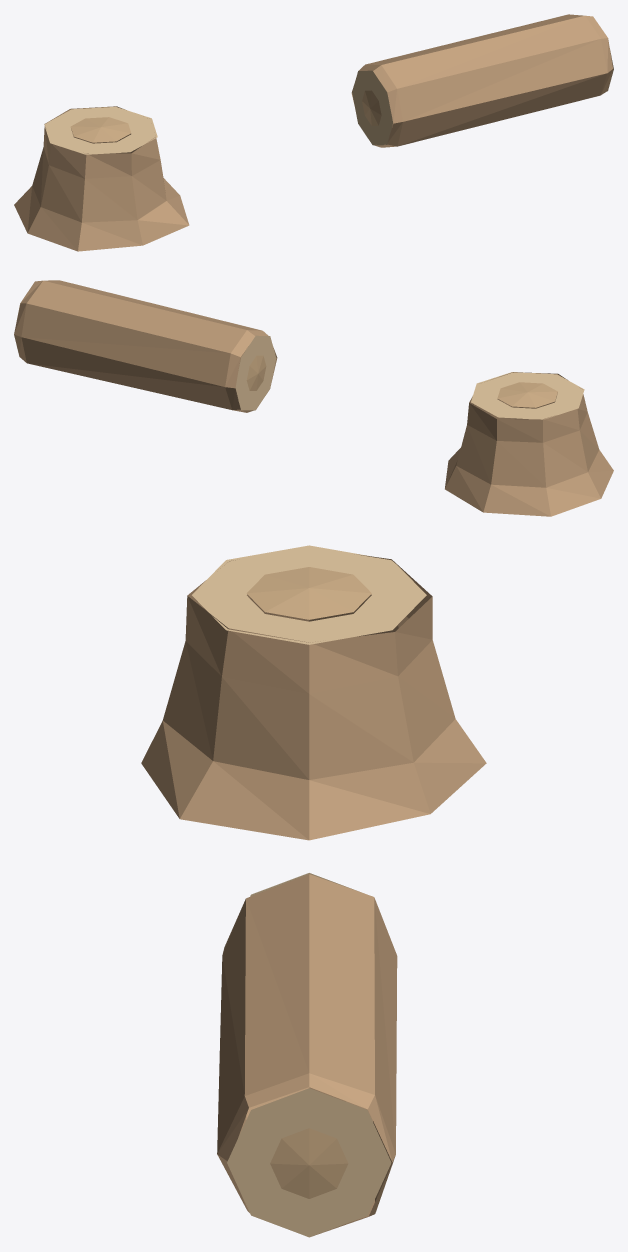
Rendered from stump_and_log.glb.
The picture shows the model from 3 angles, top to bottom: view 1: azimuth 30°, elevation 25°; view 2: azimuth 150°, elevation 25°; view 3: azimuth 270°, elevation 25°; orthographic projection. The views are drawn at different scales.
Visible parts, largest first — view 1: FallenLog, Stump; view 2: FallenLog, Stump; view 3: Stump, FallenLog.
Part boxes in pixels (x1,y1,x2,y2): FallenLog: [351, 14, 613, 147]; Stump: [14, 106, 189, 251]; FallenLog: [14, 280, 277, 412]; Stump: [445, 372, 613, 516]; Stump: [141, 545, 486, 840]; FallenLog: [217, 873, 397, 1237].
Size of the model in its own units: 6.7 by 1 by 1.76.
